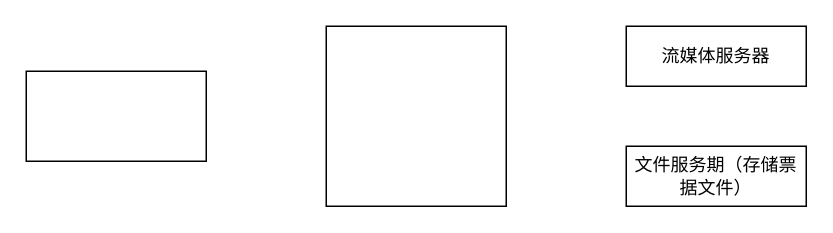
Some shapes in this 833 by 233 pixel diagram are drawn without their labels. The shapes that lost their labels are listed below. From the top down, each one's centre as x and y in pixels, then its label:
the point at 115,115: AI中台
the point at 415,115: RPA接口
